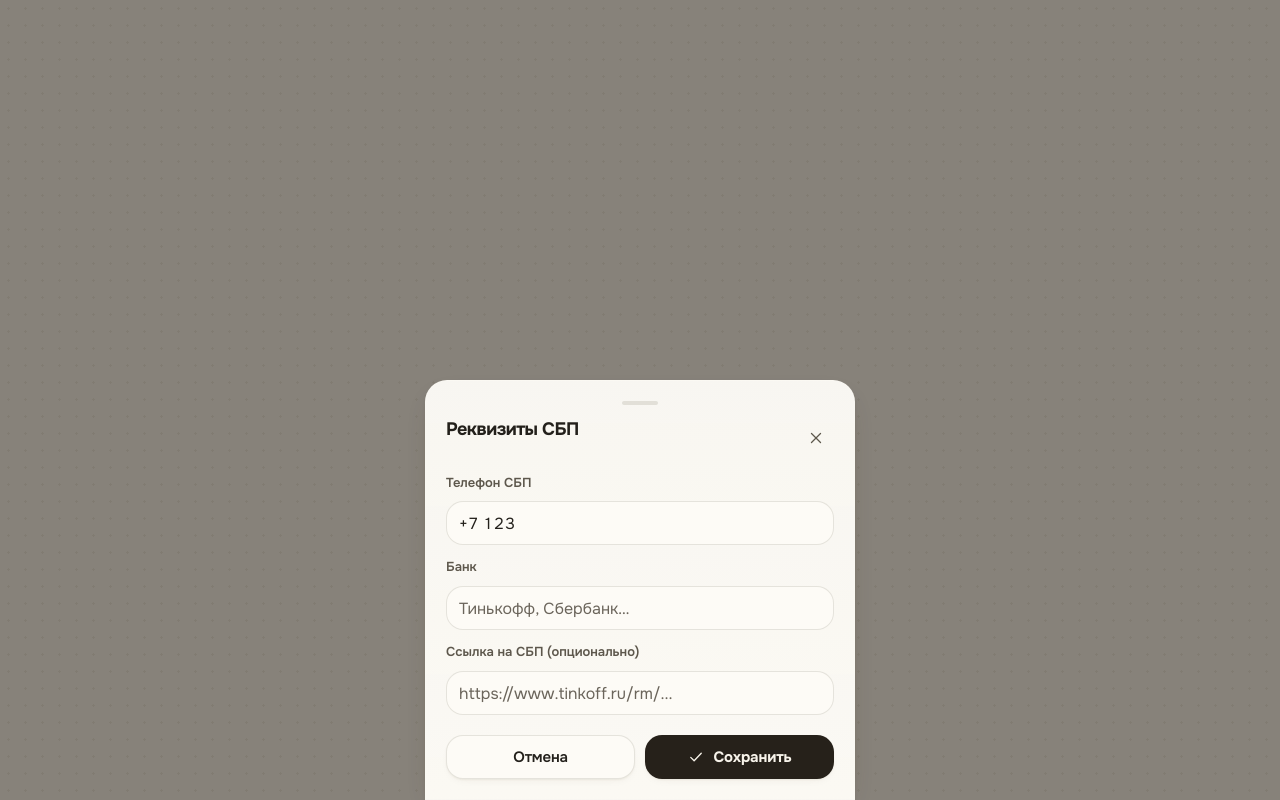
it: EditPaymentInfoSheet › не отправляет заведомо неверный телефон
What coordinates should you click on to do the following:
click the button "Сохранить"
I would click on:
 (740, 757)
Its box is [645,735,834,779].
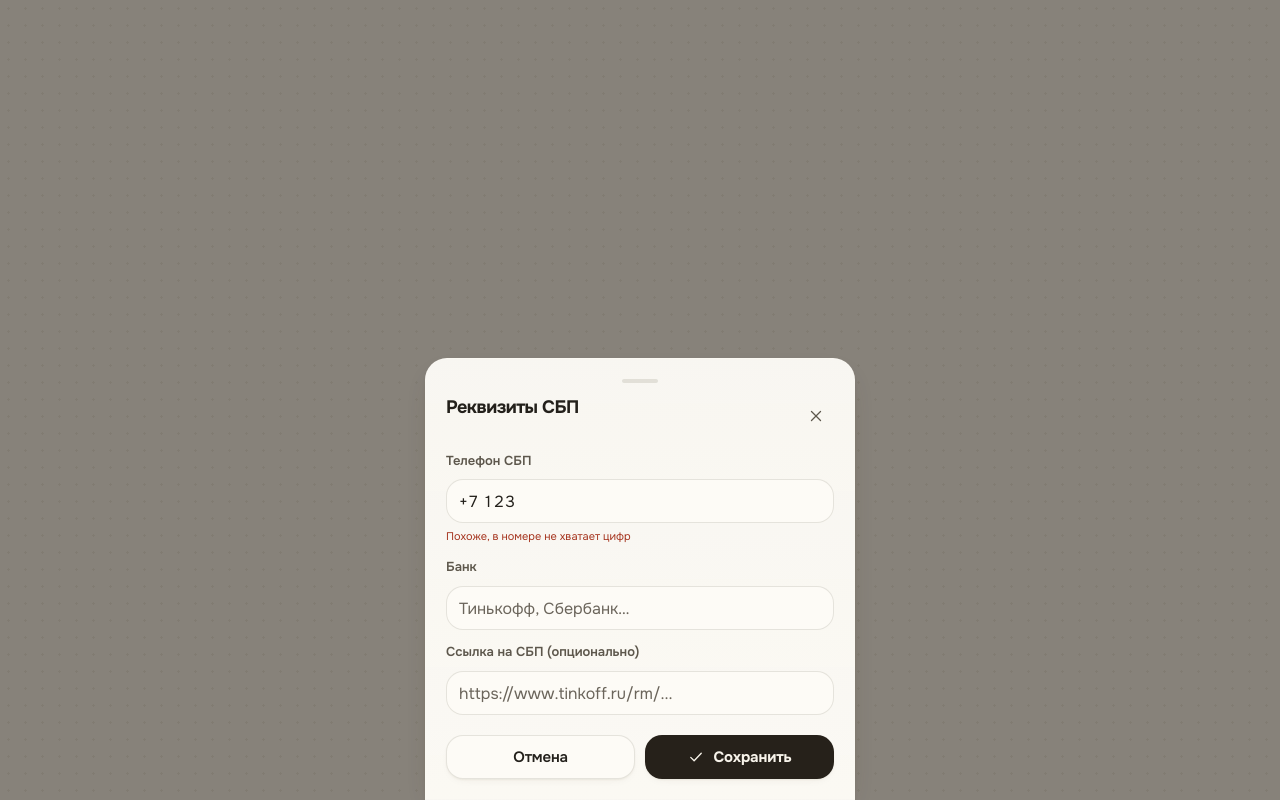
Expected: the text "Похоже, в номере не хватает цифр" is shown, [446,529,631,543]
